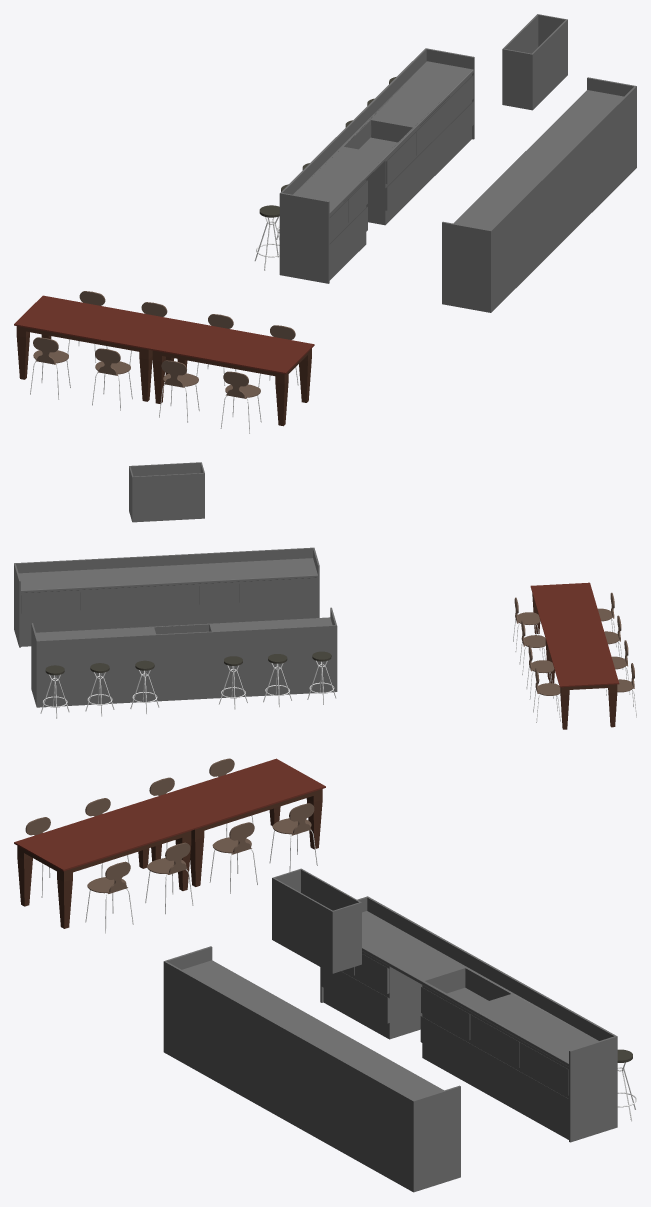
The model's file is rac_basic_sample_project_Level_1_IfcFurnishingElement.dae.
3 renders of one model, top to bottom at view 1: azimuth 30°, elevation 25°; view 2: azimuth 150°, elevation 25°; view 3: azimuth 270°, elevation 25°, orthographic. The views are drawn at different scales.
Visible parts, largest first — view 1: 29jzdd0Ab5sOIOupfzxDfN, 3Ut0AFdIb6Mh5zrboS1nCa, 1mNYMX4dvDThNrJdPk$si3, 1mNYMX4dvDThNrJdPk$sho, 3vi8Xy_cHA1R$gUoZ0tWMO, 1mNYMX4dvDThNrJdPk$suM, 1mNYMX4dvDThNrJdPk$suL, 1mNYMX4dvDThNrJdPk$sud, 1mNYMX4dvDThNrJdPk$s$E, 1mNYMX4dvDThNrJdPk$sOO; view 2: 3Ut0AFdIb6Mh5zrboS1nCa, 29jzdd0Ab5sOIOupfzxDfN, 3vi8Xy_cHA1R$gUoZ0tWMO, 1mNYMX4dvDThNrJdPk$sho, 1mNYMX4dvDThNrJdPk$si3, 1mNYMX4dvDThNrJdPk$s13, 1mNYMX4dvDThNrJdPk$sOO, 1mNYMX4dvDThNrJdPk$sQ8, 1mNYMX4dvDThNrJdPk$sQD, 1mNYMX4dvDThNrJdPk$sTF, 1mNYMX4dvDThNrJdPk$sP3, 1mNYMX4dvDThNrJdPk$su$ (+3 smaller); view 3: 3Ut0AFdIb6Mh5zrboS1nCa, 29jzdd0Ab5sOIOupfzxDfN, 1mNYMX4dvDThNrJdPk$si3, 1mNYMX4dvDThNrJdPk$sho, 3vi8Xy_cHA1R$gUoZ0tWMO, 1mNYMX4dvDThNrJdPk$suK, 1mNYMX4dvDThNrJdPk$suR, 1mNYMX4dvDThNrJdPk$su_, 1mNYMX4dvDThNrJdPk$su$.
Part boxes in pixels (x1,y1,x2,y2): 29jzdd0Ab5sOIOupfzxDfN: (279, 48, 474, 283); 3Ut0AFdIb6Mh5zrboS1nCa: (442, 77, 636, 312); 1mNYMX4dvDThNrJdPk$si3: (150, 320, 314, 426); 1mNYMX4dvDThNrJdPk$sho: (14, 295, 177, 401); 3vi8Xy_cHA1R$gUoZ0tWMO: (502, 14, 567, 110); 1mNYMX4dvDThNrJdPk$suM: (220, 371, 261, 433); 1mNYMX4dvDThNrJdPk$suL: (159, 360, 199, 422); 1mNYMX4dvDThNrJdPk$sud: (92, 348, 132, 410); 1mNYMX4dvDThNrJdPk$s$E: (30, 337, 70, 399); 1mNYMX4dvDThNrJdPk$sOO: (254, 205, 279, 270); 3Ut0AFdIb6Mh5zrboS1nCa: (14, 547, 319, 647); 29jzdd0Ab5sOIOupfzxDfN: (31, 607, 337, 707); 3vi8Xy_cHA1R$gUoZ0tWMO: (129, 462, 204, 522); 1mNYMX4dvDThNrJdPk$sho: (545, 633, 619, 729); 1mNYMX4dvDThNrJdPk$si3: (530, 582, 604, 679); 1mNYMX4dvDThNrJdPk$s13: (40, 665, 69, 718); 1mNYMX4dvDThNrJdPk$sOO: (307, 651, 336, 704); 1mNYMX4dvDThNrJdPk$sQ8: (85, 663, 114, 716); 1mNYMX4dvDThNrJdPk$sQD: (219, 656, 247, 709); 1mNYMX4dvDThNrJdPk$sTF: (130, 660, 159, 714); 1mNYMX4dvDThNrJdPk$sP3: (263, 654, 292, 707); 1mNYMX4dvDThNrJdPk$su$: (533, 668, 560, 722); 3Ut0AFdIb6Mh5zrboS1nCa: (163, 946, 460, 1192); 29jzdd0Ab5sOIOupfzxDfN: (320, 896, 617, 1142); 1mNYMX4dvDThNrJdPk$si3: (14, 800, 194, 928); 1mNYMX4dvDThNrJdPk$sho: (145, 758, 325, 886); 3vi8Xy_cHA1R$gUoZ0tWMO: (272, 868, 361, 973); 1mNYMX4dvDThNrJdPk$suK: (85, 861, 133, 933); 1mNYMX4dvDThNrJdPk$suR: (145, 842, 193, 914); 1mNYMX4dvDThNrJdPk$su_: (209, 822, 257, 893); 1mNYMX4dvDThNrJdPk$su$: (269, 803, 317, 871).
Size of the model in its own units: 9.68 by 6.82 by 2.7.
